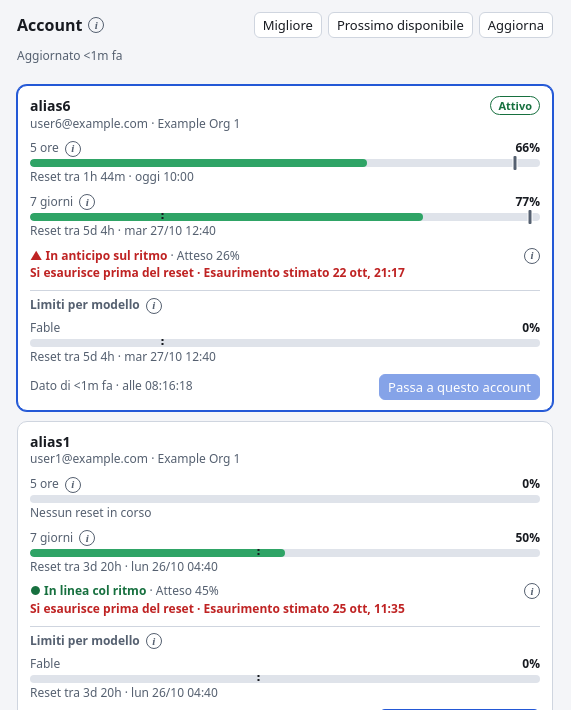
Test: Dashboard: cambio account › un errore del comando compare come avviso e i pulsanti si riabilitano
Step 1. Click the button "Migliore" → [288, 25], box [254,12,322,38]
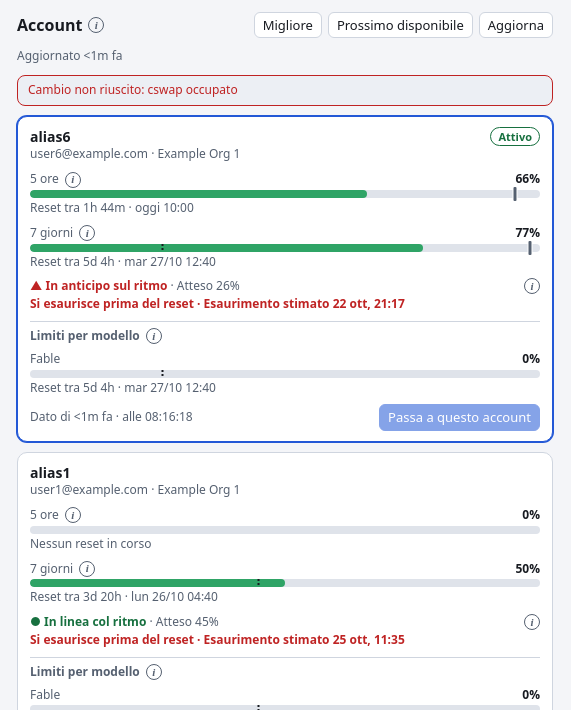
Now the message reads "Cambio non riuscito: cswap occupato", box [28,81,238,98]
